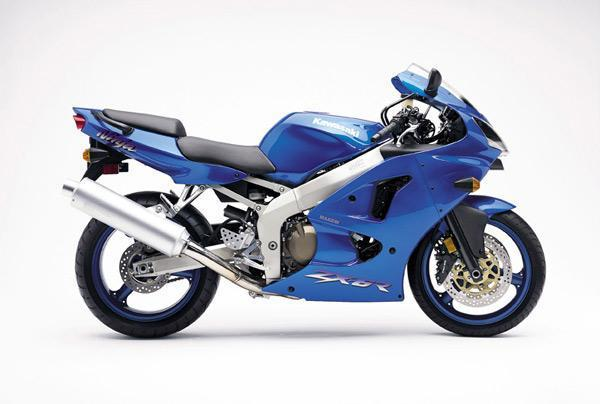motorcycle: (53, 58, 558, 352)
